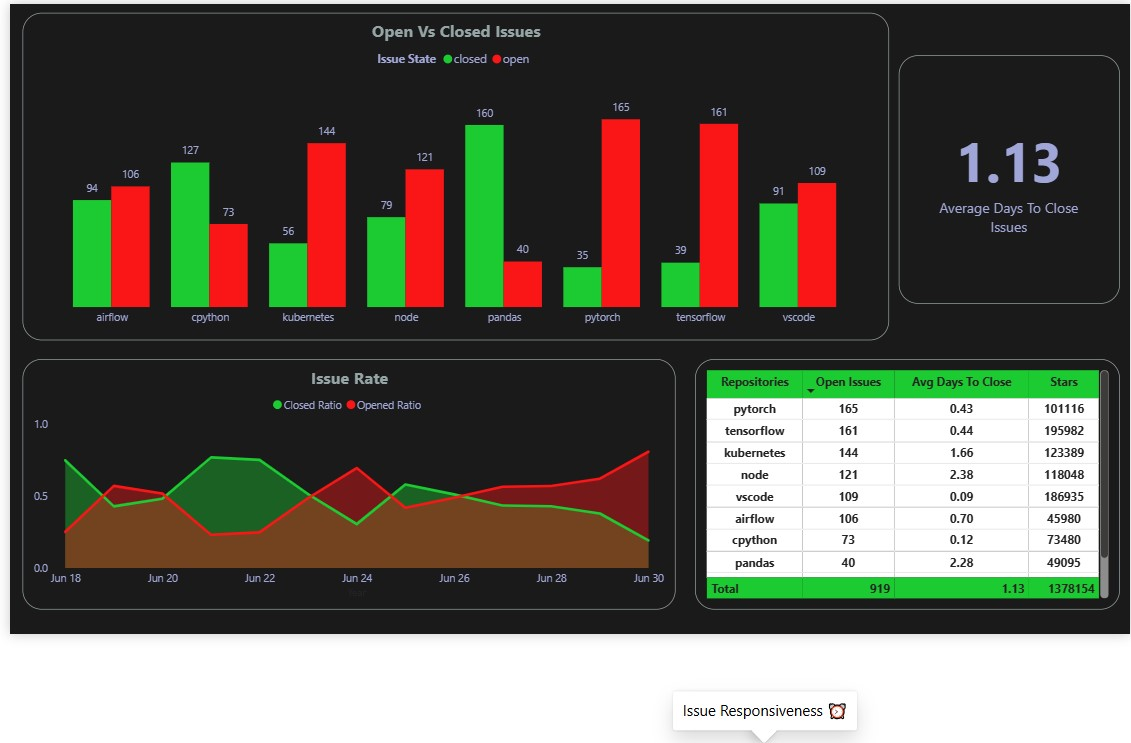

This screenshot's page, from the dashboard's own definition file:
{"tool":"powerbi","page":{"name":"Issue Responsiveness ⏰","canvas":[1280,720],"ordinal":3},"visuals":[{"type":"clusteredColumnChart","title":"Open Vs Closed Issues","fields":{"Category":["Repositories.repo_name"],"Y":["CountNonNull(Issues.issue_id)"],"Series":["Issues.issue_state"]},"box":[14.3,10,990,374.3],"z":0},{"type":"cardVisual","fields":{"Data":["Issues.Avg Days_To_Close"]},"box":[1015.7,58.6,252.9,284.3],"z":1000},{"type":"areaChart","title":"Issue Rate ","fields":{"Y":["Issues.Closed Ratio","Issues.Opened Ratio"],"Category":["Issues.created_at.Variation.Date Hierarchy.Year","Issues.created_at.Variation.Date Hierarchy.Quarter","Issues.created_at.Variation.Date Hierarchy.Month","Issues.created_at.Variation.Date Hierarchy.Day"]},"box":[13.7,406.2,746.5,286.8],"z":2000},{"type":"tableEx","fields":{"Values":["Repositories.repo_name","Issues.Open Issues Count","Issues.Avg Days_To_Close","Sum(Repositories.stars)"]},"box":[782.2,406.2,485.8,286.8],"z":3000}]}

Visuals, with their boxes on the page's 1280x720 design canvas (x1, y1, x2, y2). These are canvas units, not pixel positions in the 1131x743 screenshot, which may show the page scaled, cropped or inside an application window:
"Open Vs Closed Issues" clusteredColumnChart: 14/10/1004/384
cardVisual - Issues.Avg Days_To_Close: 1016/59/1269/343
"Issue Rate " areaChart: 14/406/760/693
tableEx - Repositories.repo_name x Issues.Open Issues Count: 782/406/1268/693
